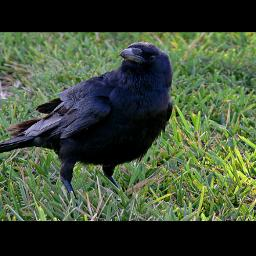Crow: (0, 41, 174, 203)
